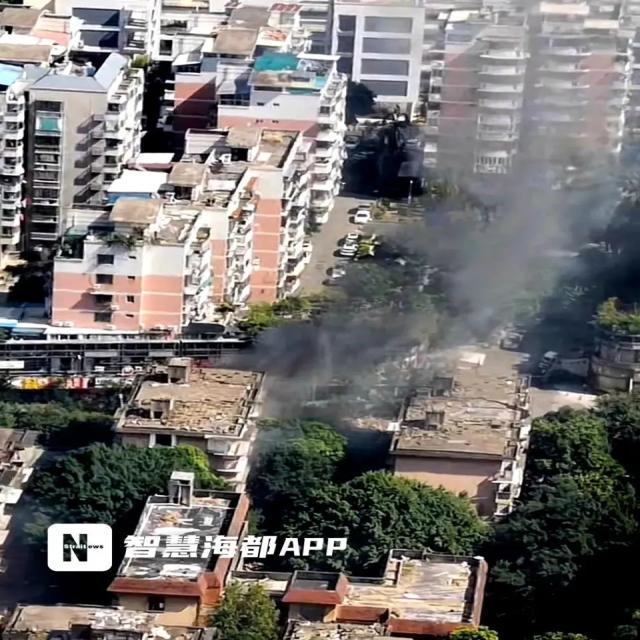Smoke: (457, 168, 568, 316), (276, 338, 341, 413)
